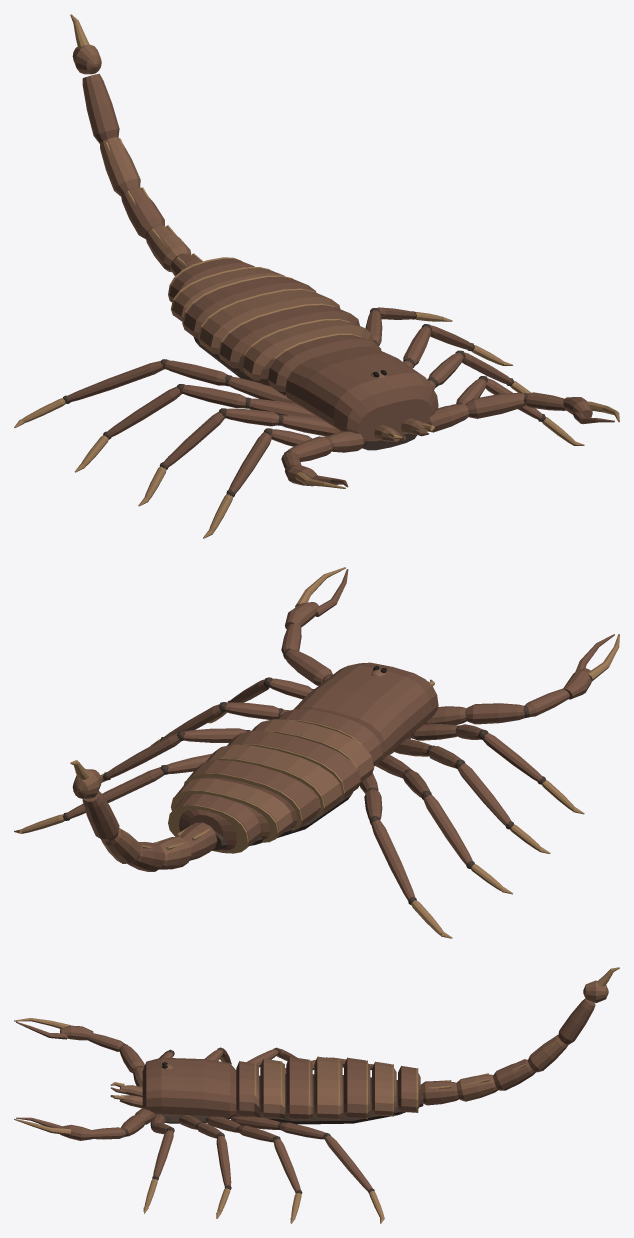
3 views of the same model, one above another, from view 1: azimuth 30°, elevation 25°; view 2: azimuth 150°, elevation 25°; view 3: azimuth 270°, elevation 25° (orthographic). The views are drawn at different scales.
Visible parts, largest first — view 1: pulmonoscorpius-export; view 2: pulmonoscorpius-export; view 3: pulmonoscorpius-export.
Part boxes in pixels (x1=…): pulmonoscorpius-export: x1=14, y1=14, x2=619, y2=538; pulmonoscorpius-export: x1=14, y1=567, x2=619, y2=938; pulmonoscorpius-export: x1=14, y1=967, x2=619, y2=1223.
Size of the model in its own units: 0.2002 by 0.1055 by 0.3258.
